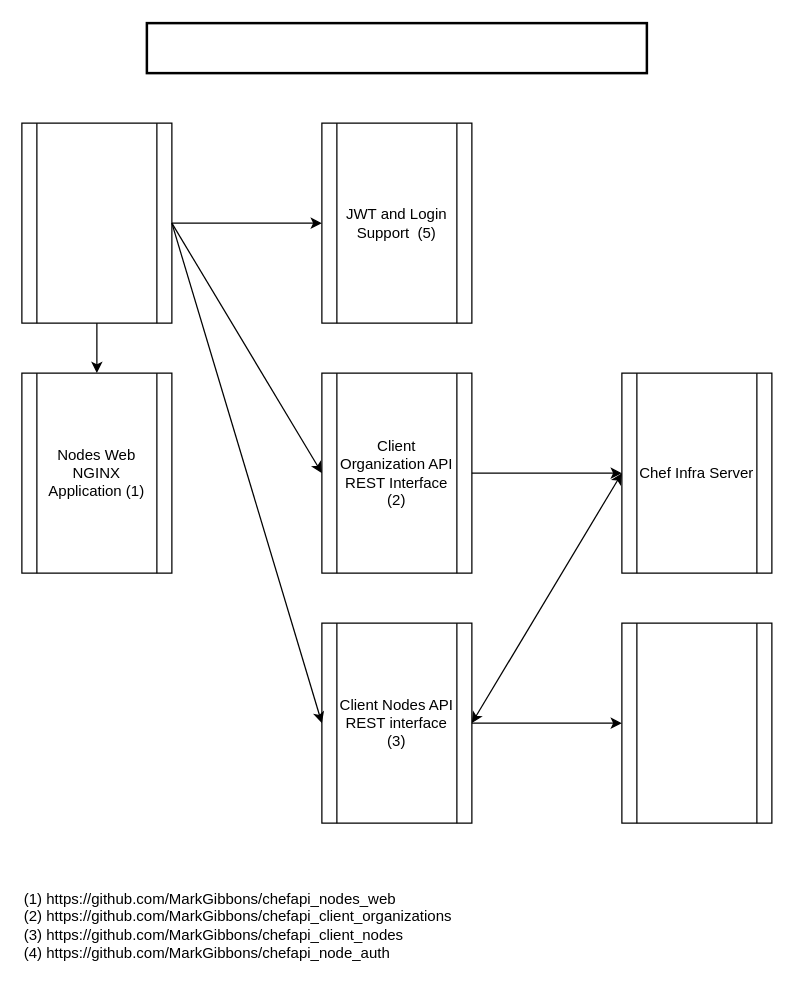
Image size: 794x988. Some labels were removed from this diagram. Here are the shapes that lost their labels. From the top down, the centre of each, then its label:
At (x=396, y=47): "Manage Nodes".
At (x=96, y=222): "Browser".
At (x=696, y=722): "Node access authorization REST interface (4)".
